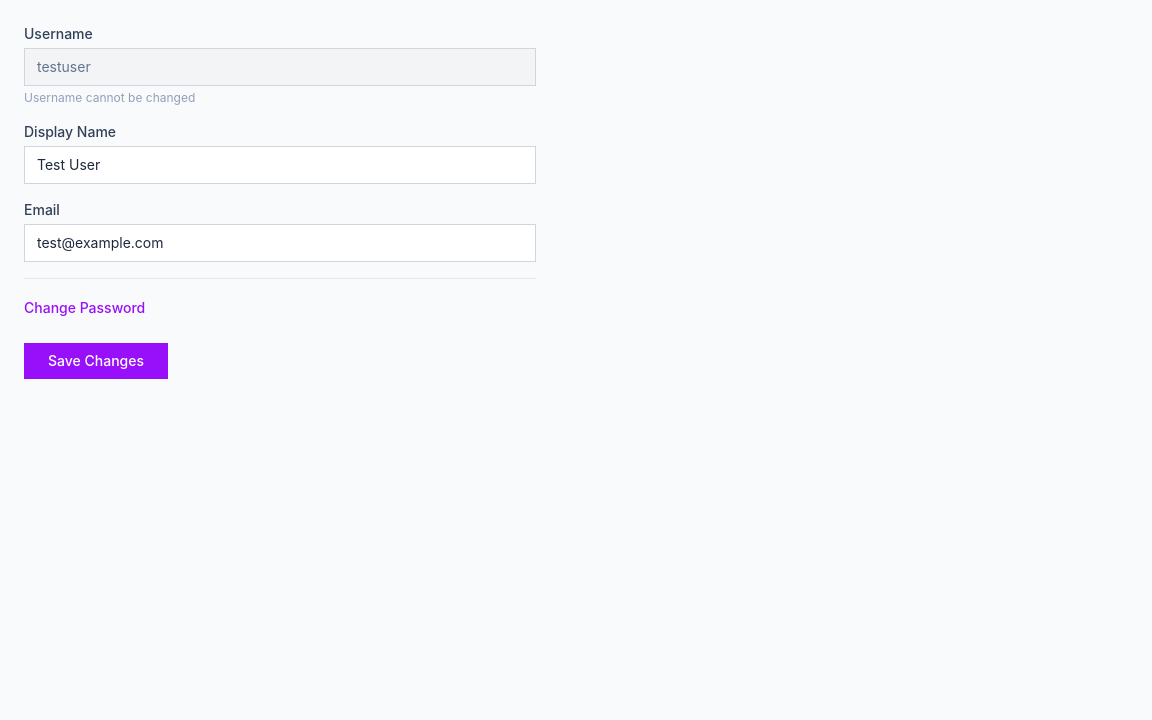
it: ProfilePage › shows validation error when password fields are empty and toggle is active
The width and height of the screenshot is (1152, 720).
Click the button "Change Password": click(85, 308) [24, 298, 145, 318]
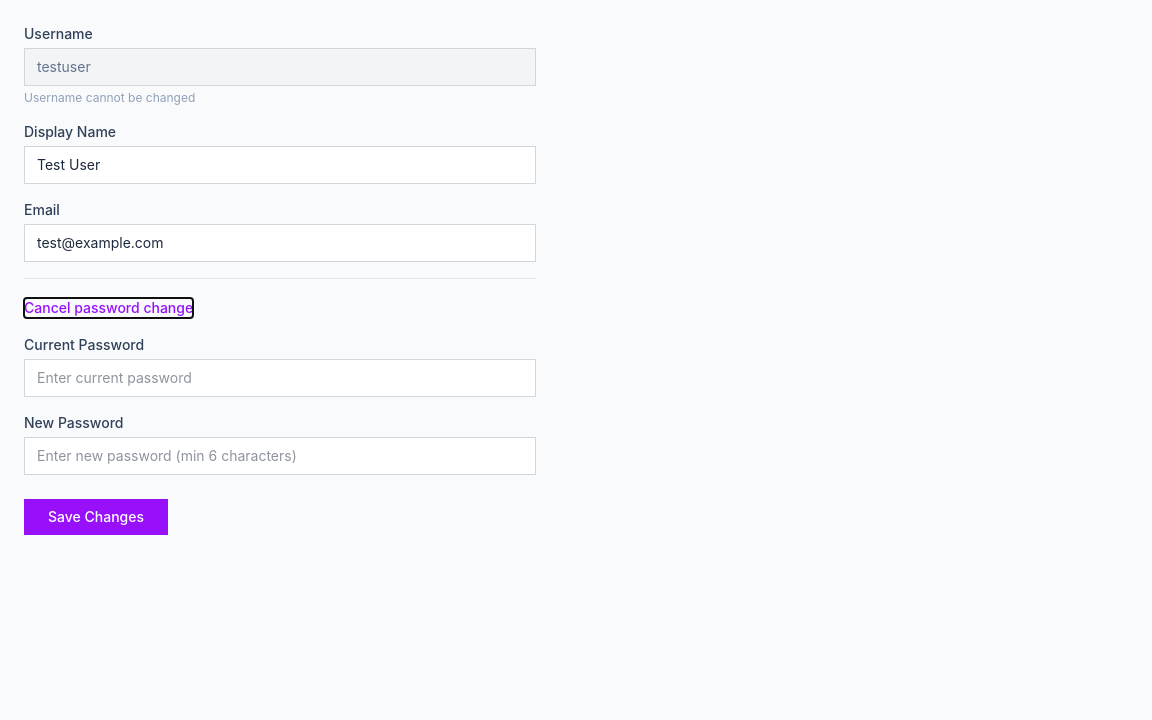
Click the button "Save Changes": click(96, 517) [24, 499, 168, 535]
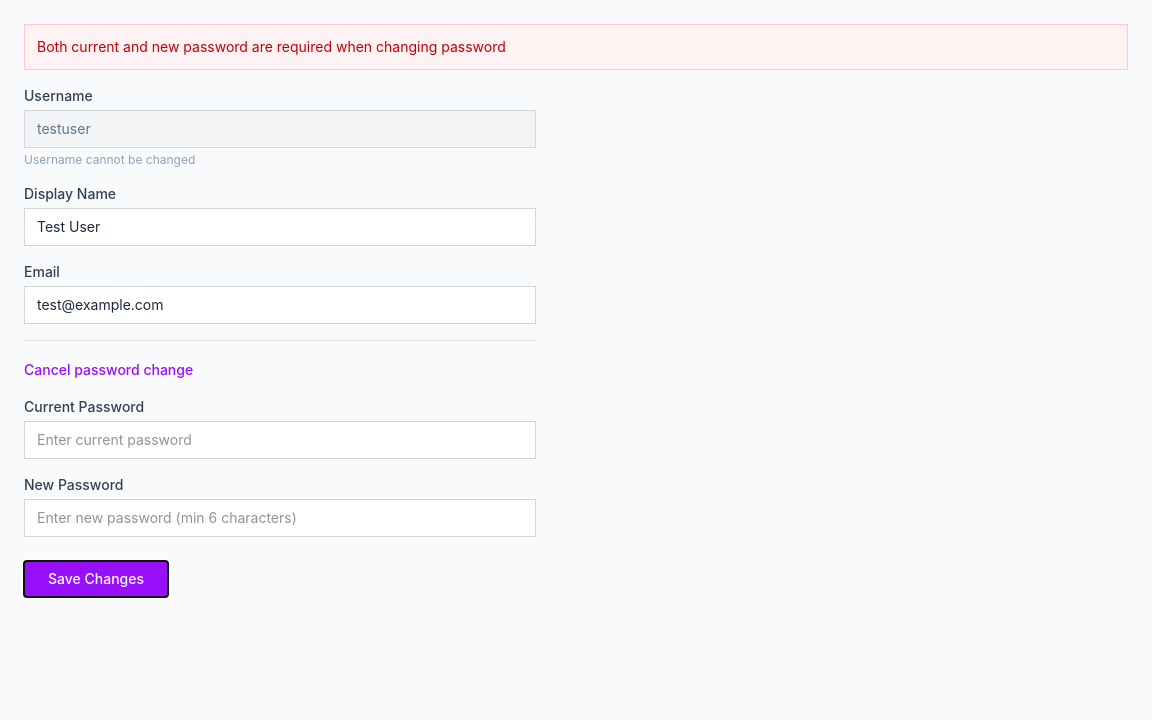
Now the text "Both current and new password are required when changing password" is shown, box [24, 24, 1128, 70]
